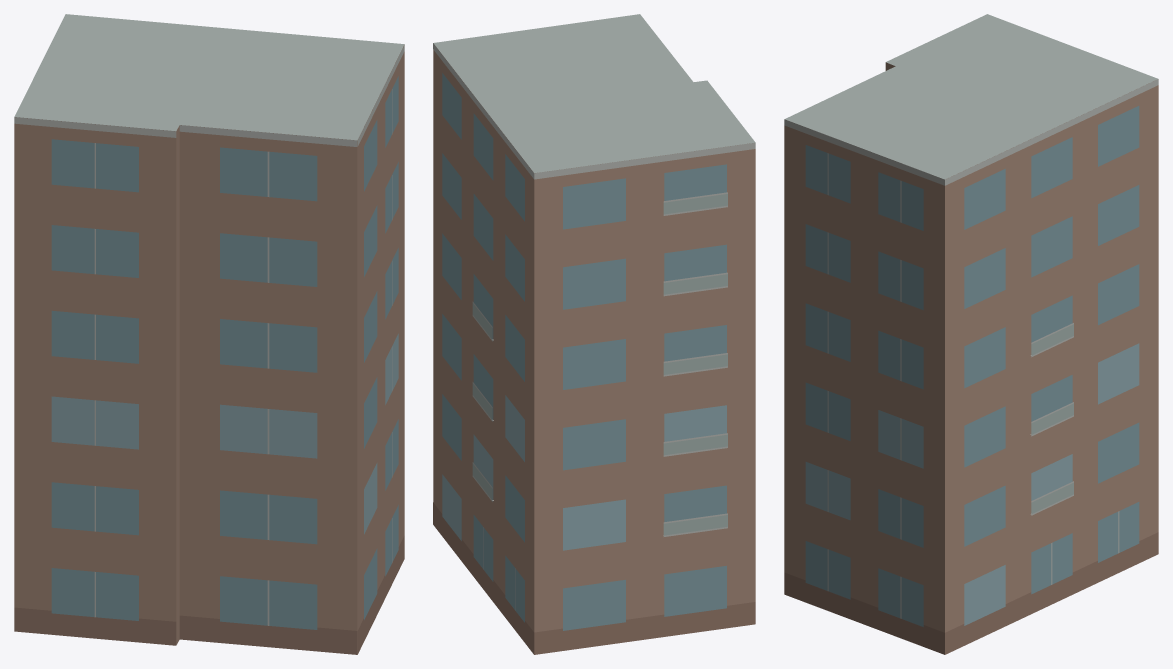
Rendered from survey-upis-32901873.glb.
3 renders of one model, left to right at view 1: azimuth 30°, elevation 25°; view 2: azimuth 150°, elevation 25°; view 3: azimuth 270°, elevation 25°, orthographic. The views are drawn at different scales.
Parts seen in each view (by area): view 1: survey-upis-32901873.tmp; view 2: survey-upis-32901873.tmp; view 3: survey-upis-32901873.tmp.
Part boxes in pixels (box(x1,y1,x2,y2)): survey-upis-32901873.tmp: box(14, 14, 404, 654); survey-upis-32901873.tmp: box(433, 14, 755, 654); survey-upis-32901873.tmp: box(784, 14, 1158, 654).
Bounding box in the file's own units: 13.91 × 18.6 × 13.28.
